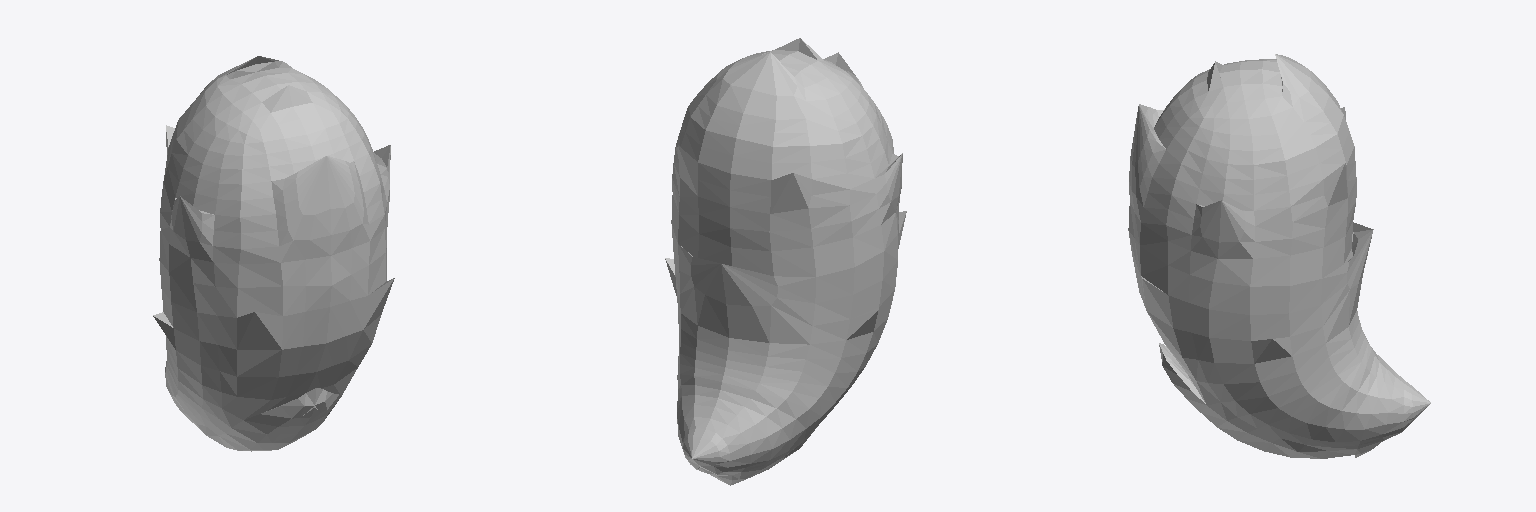
3 renders of one model, left to right at view 1: azimuth 30°, elevation 25°; view 2: azimuth 150°, elevation 25°; view 3: azimuth 270°, elevation 25°, orthographic.
Parts seen in each view (by area): view 1: Handle1; view 2: Handle1; view 3: Handle1.
Boxes of the visible parts, x1=… form: Handle1: x1=153, y1=56, x2=394, y2=451; Handle1: x1=665, y1=38, x2=906, y2=485; Handle1: x1=1128, y1=54, x2=1430, y2=458.
Size of the model in its own units: 2.41 by 4.35 by 2.96.